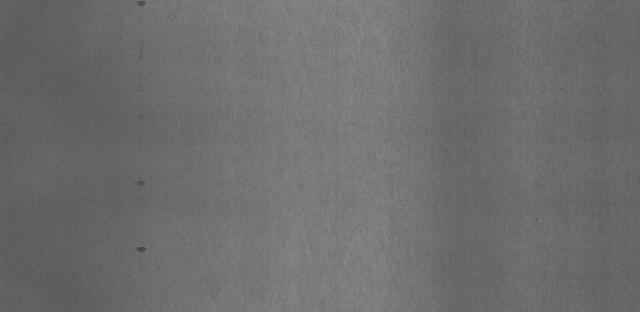oil_spot: (133, 240, 147, 263), (132, 177, 150, 189), (132, 1, 149, 11)
